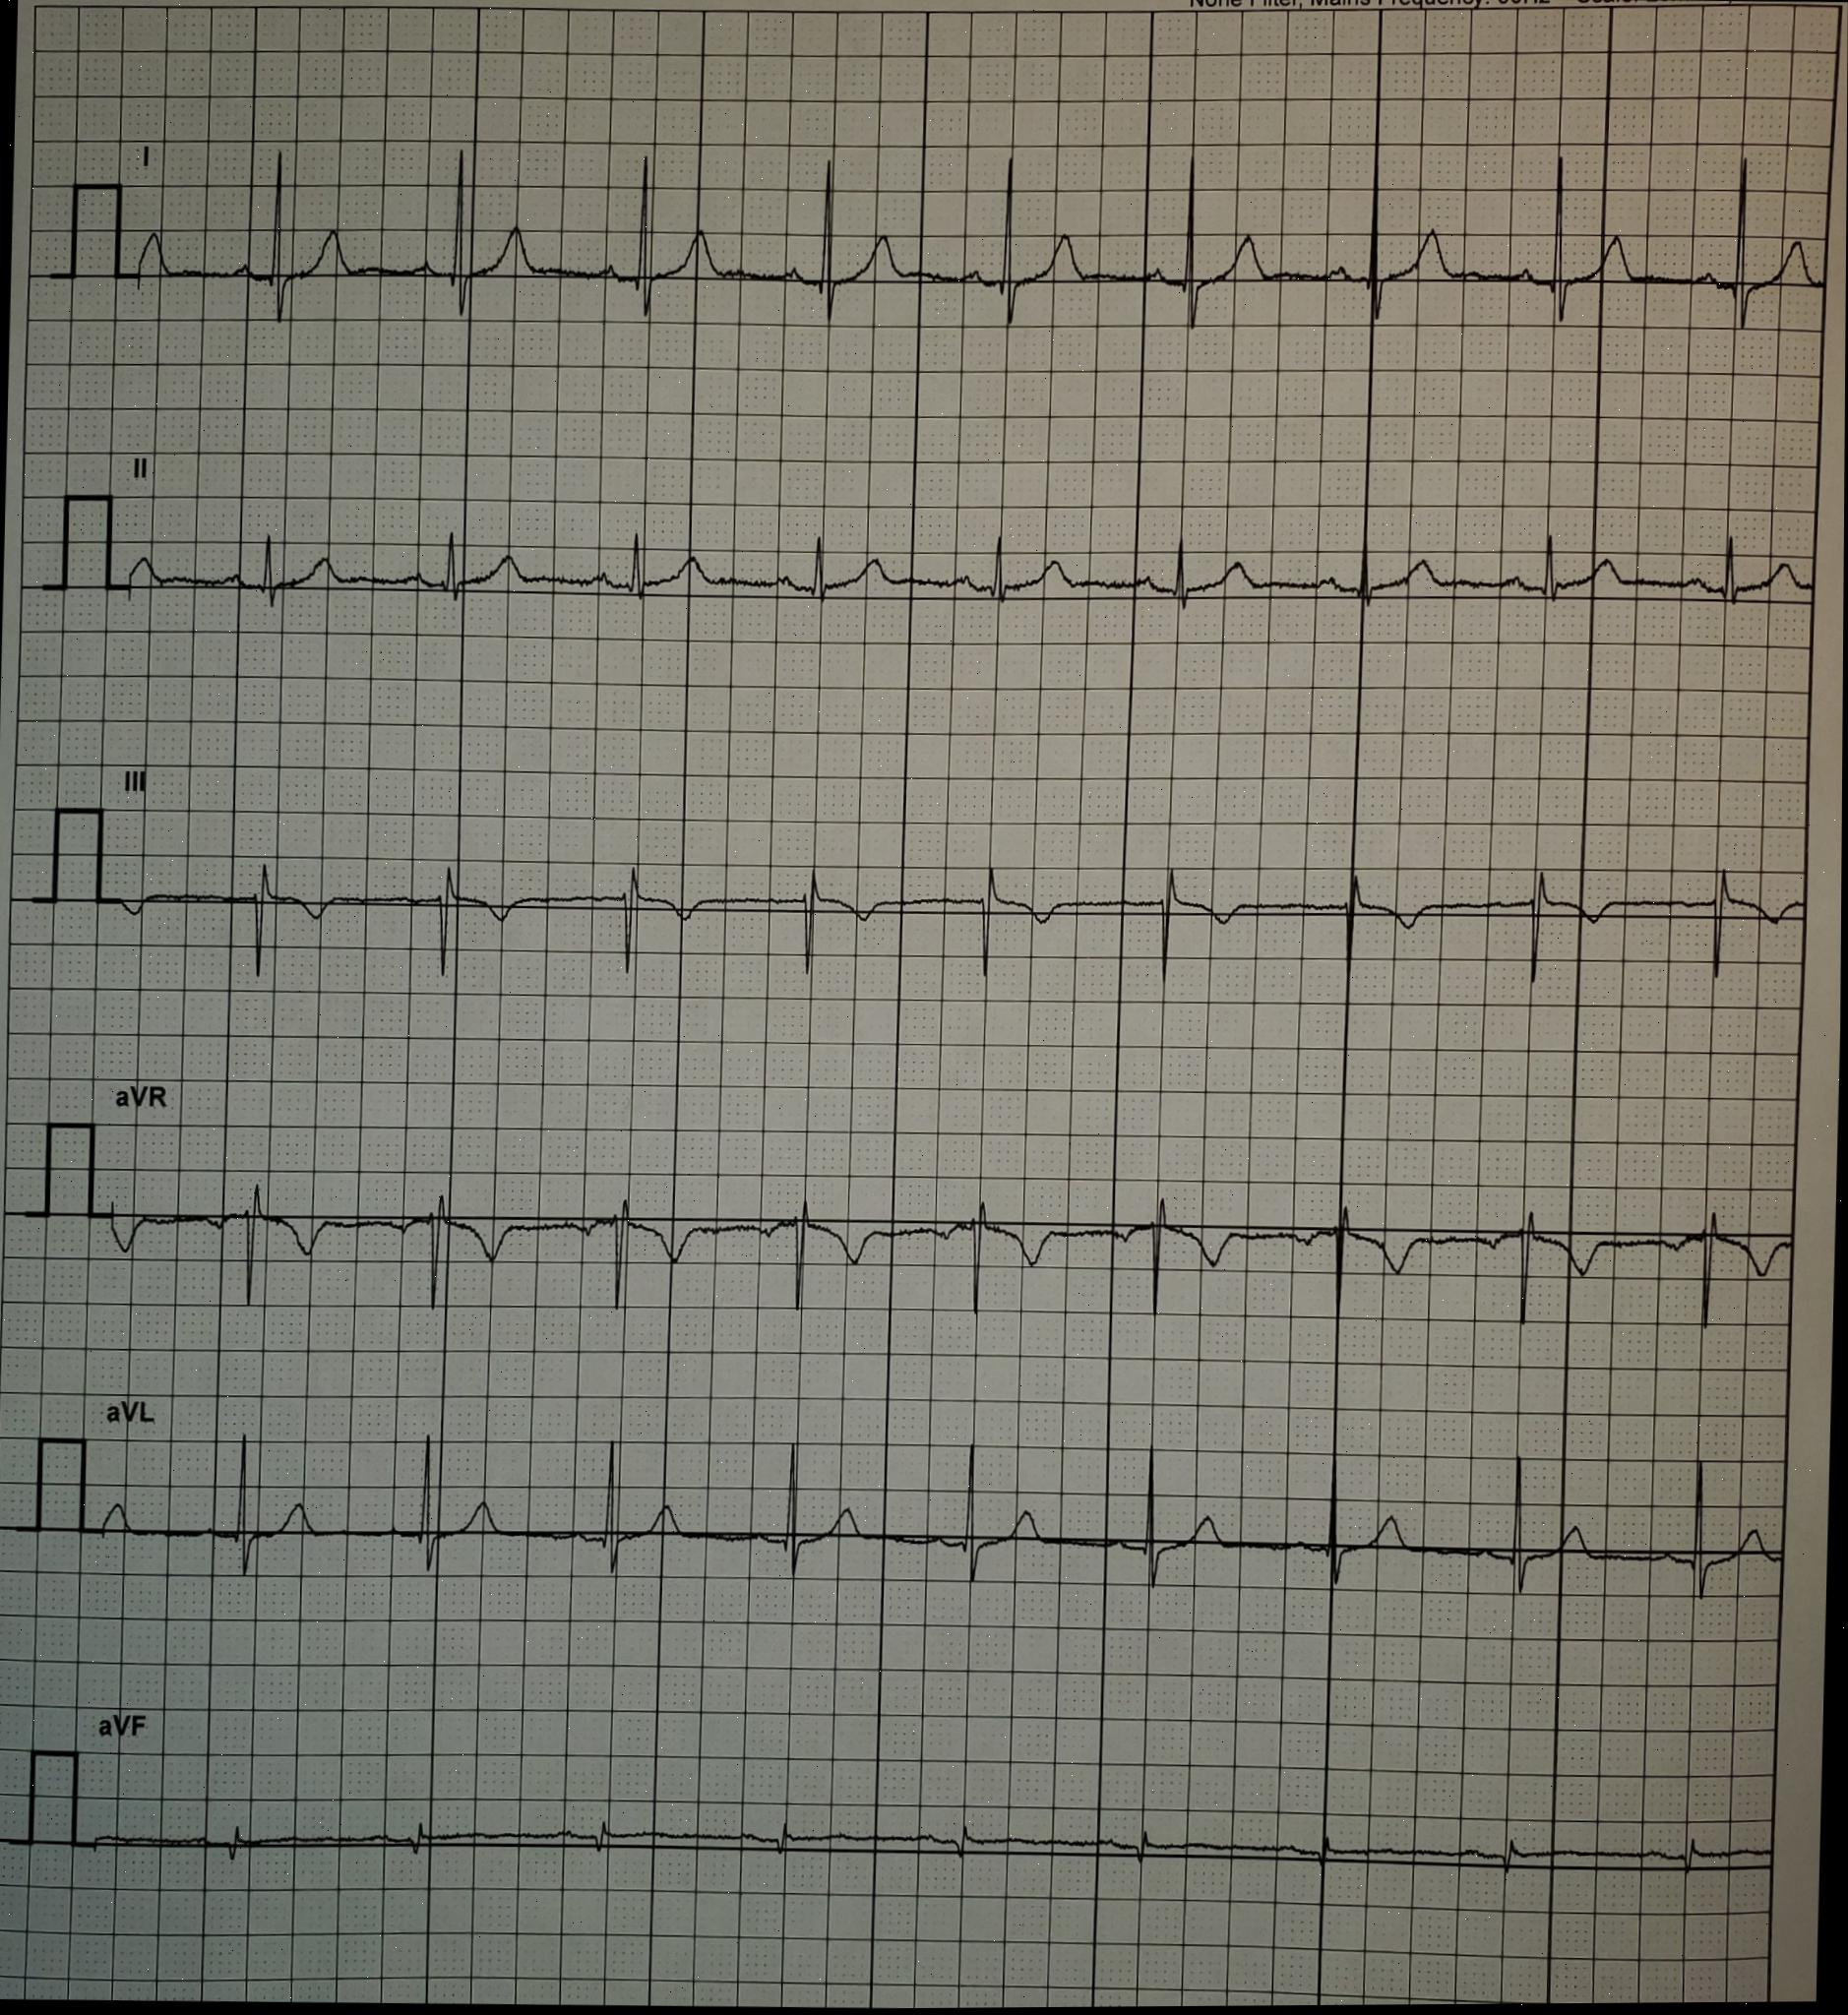Lead_I: (126, 111, 802, 353)
Lead_III: (104, 742, 697, 1011)
Lead_II_ext: (114, 430, 1818, 660)
Lead_aVF: (81, 1690, 672, 1933)
Lead_aVL: (86, 1366, 676, 1631)
Lead_aVR: (100, 1064, 683, 1336)
